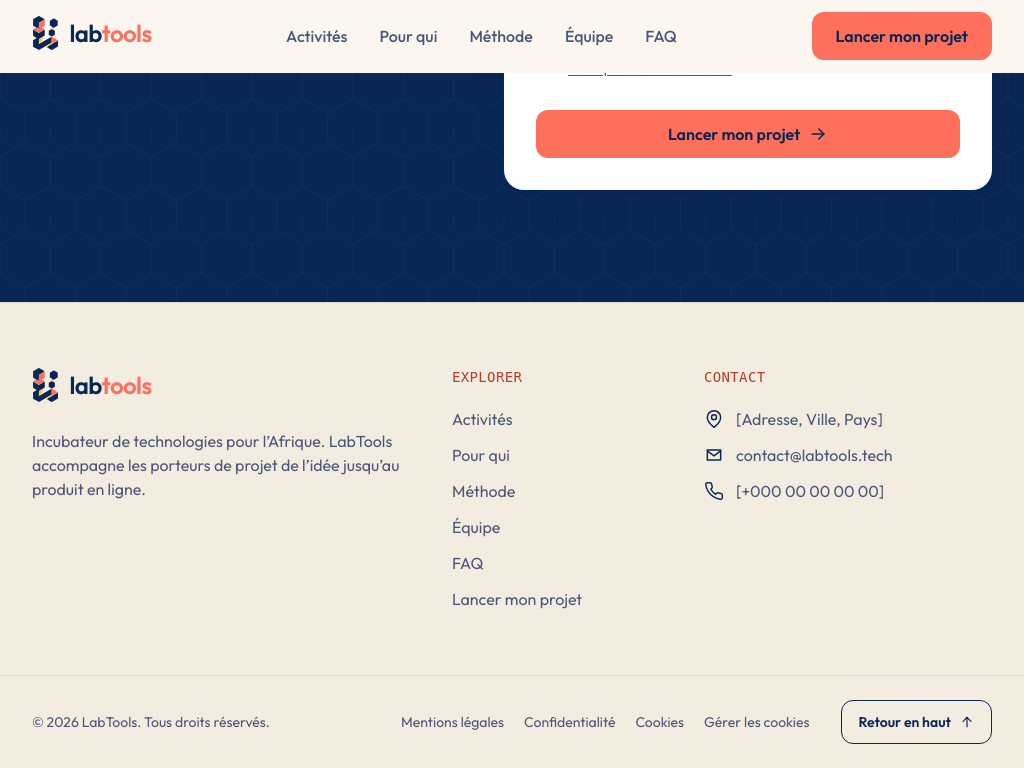
Test: bandeau cookies › se rouvre depuis le pied de page et retire le consentement
(page scrolled)
Click the button "Gérer les cookies".
click(757, 722)  # box top-left (704, 712), bottom-right (809, 732)
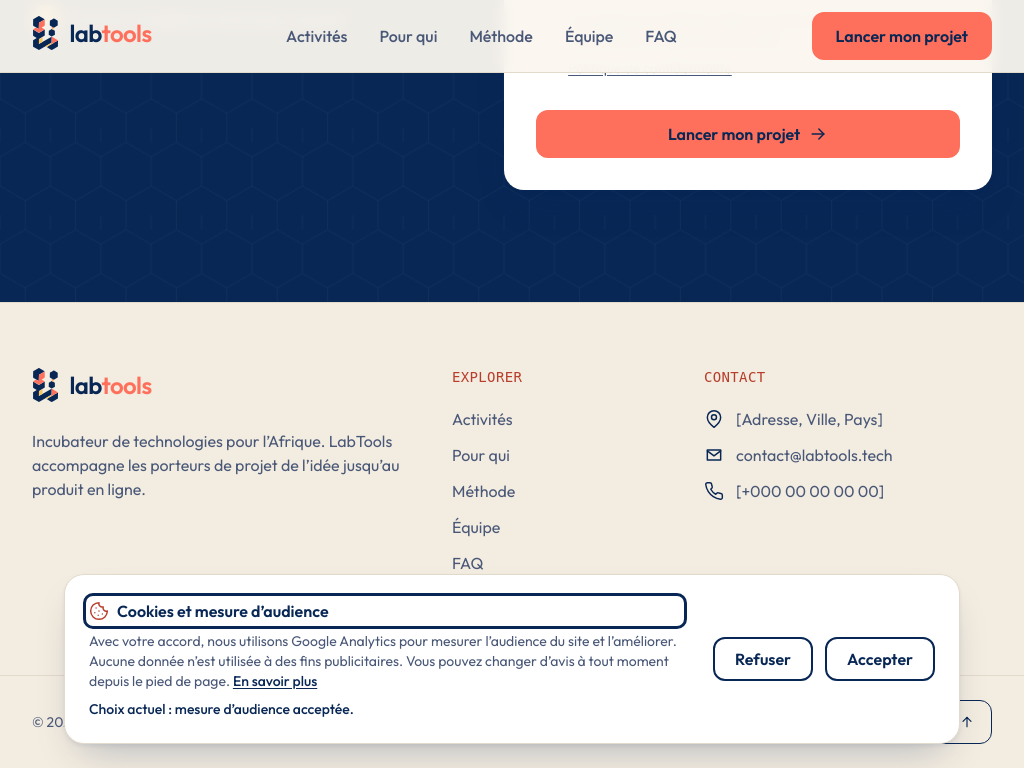
Expected: the element "Cookies et mesure d’audience" is shown, top-left (0, 550), bottom-right (1023, 767)
Expected: the text "Choix actuel : mesure d’audience acceptée." is shown, top-left (89, 700), bottom-right (354, 718)
Click the button "Refuser".
click(763, 659)  # box top-left (713, 637), bottom-right (813, 681)
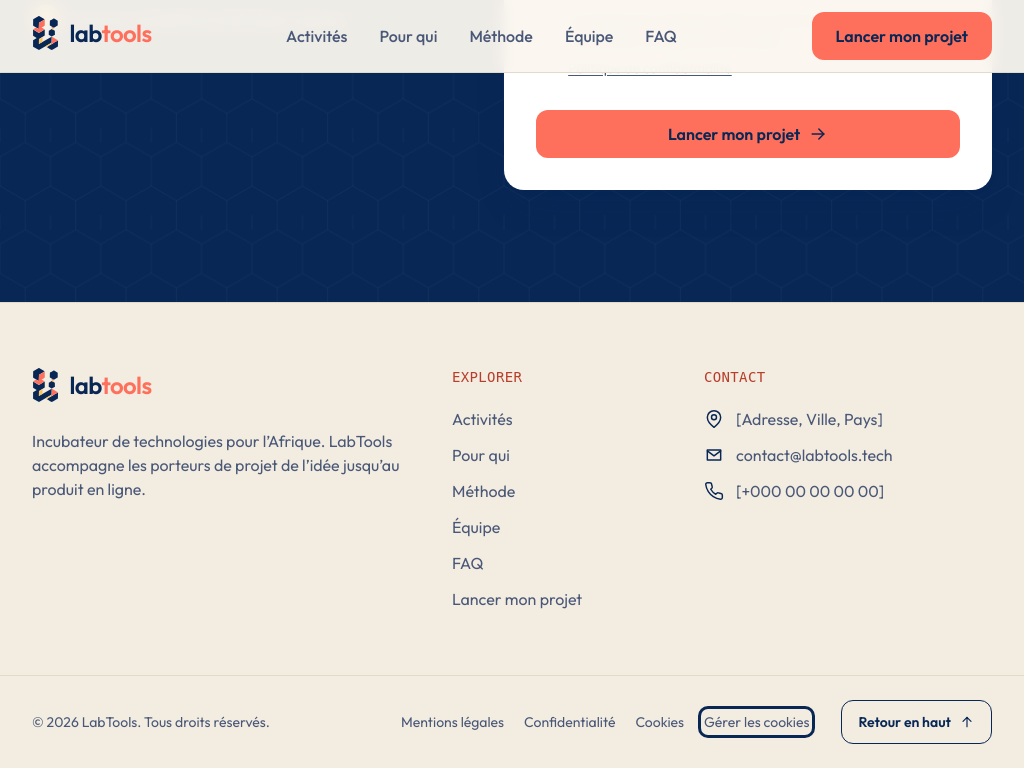
Expected: the heading "Cookies et mesure d’audience" is gone
